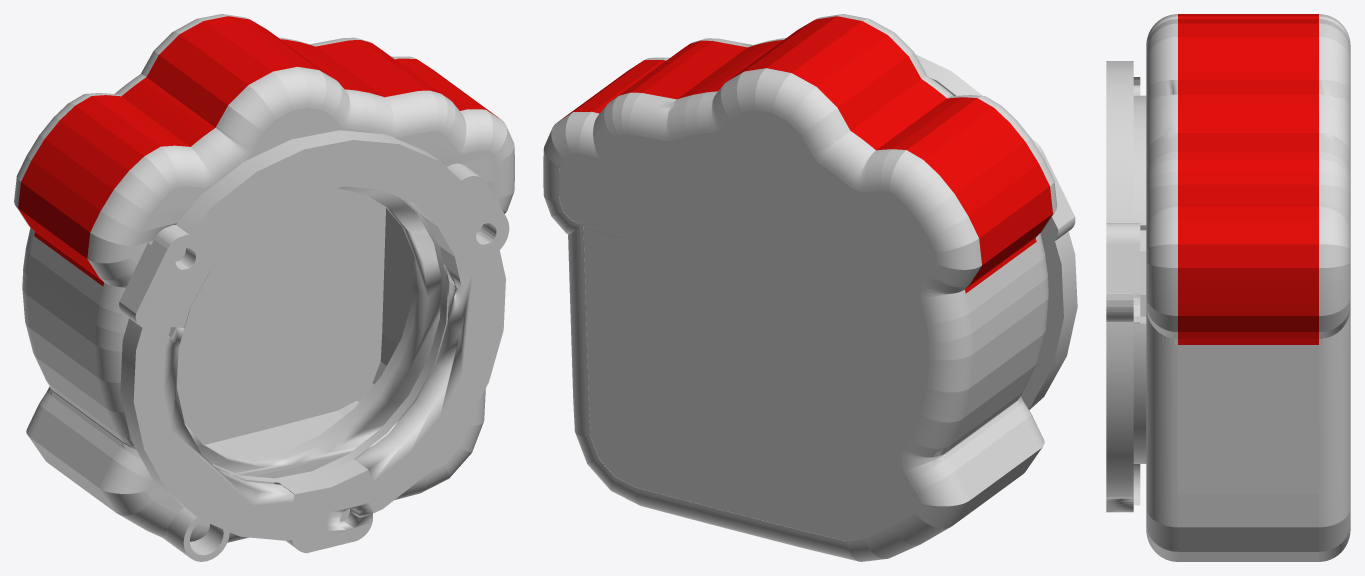
Rendered from fix_scene 8h.fbx.
3 renders of one model, left to right at view 1: azimuth 30°, elevation 25°; view 2: azimuth 150°, elevation 25°; view 3: azimuth 270°, elevation 25°, orthographic. The views are drawn at different scales.
Visible parts, largest first — view 1: 1, 1.007; view 2: 1, 1.007; view 3: 1, 1.007.
Part boxes in pixels (bbox=[...]): 1: bbox=[14, 14, 514, 561]; 1.007: bbox=[18, 16, 499, 286]; 1: bbox=[543, 14, 1077, 561]; 1.007: bbox=[558, 16, 1052, 293]; 1: bbox=[1106, 14, 1350, 561]; 1.007: bbox=[1178, 14, 1318, 344].
Bounding box in the file's own units: 250 × 264 × 123.
